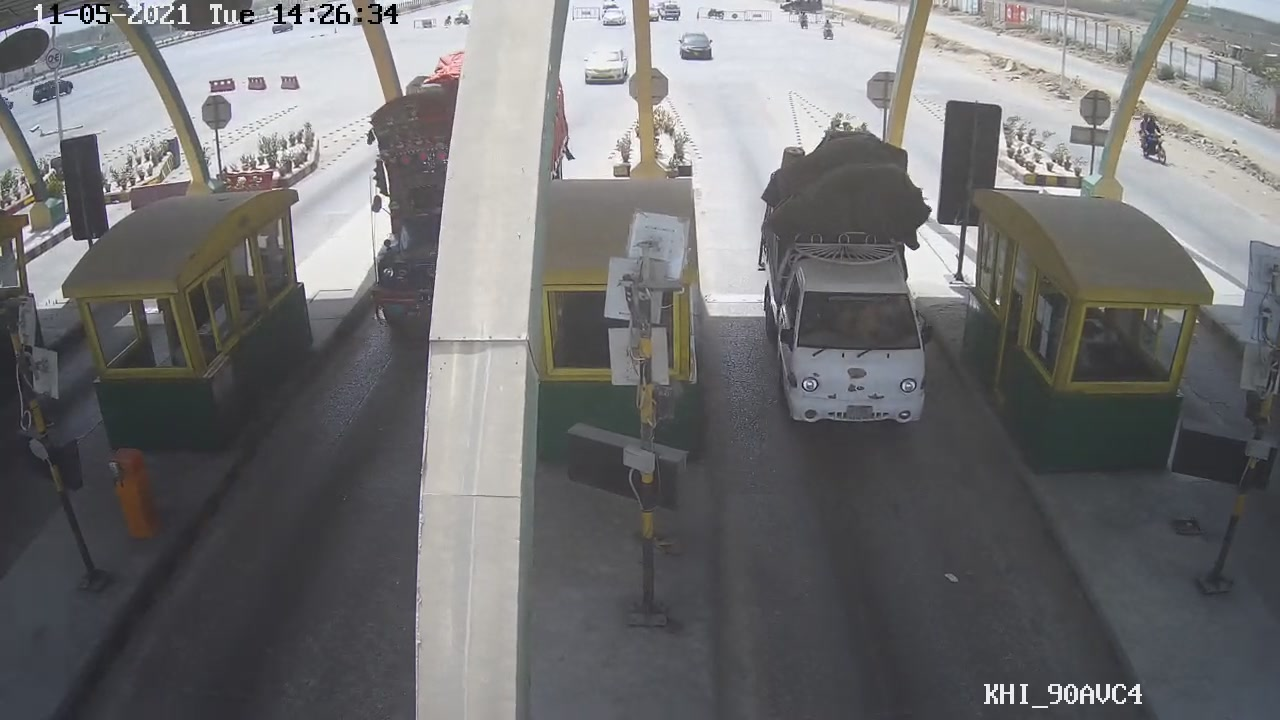F2: (742, 138, 937, 438)
